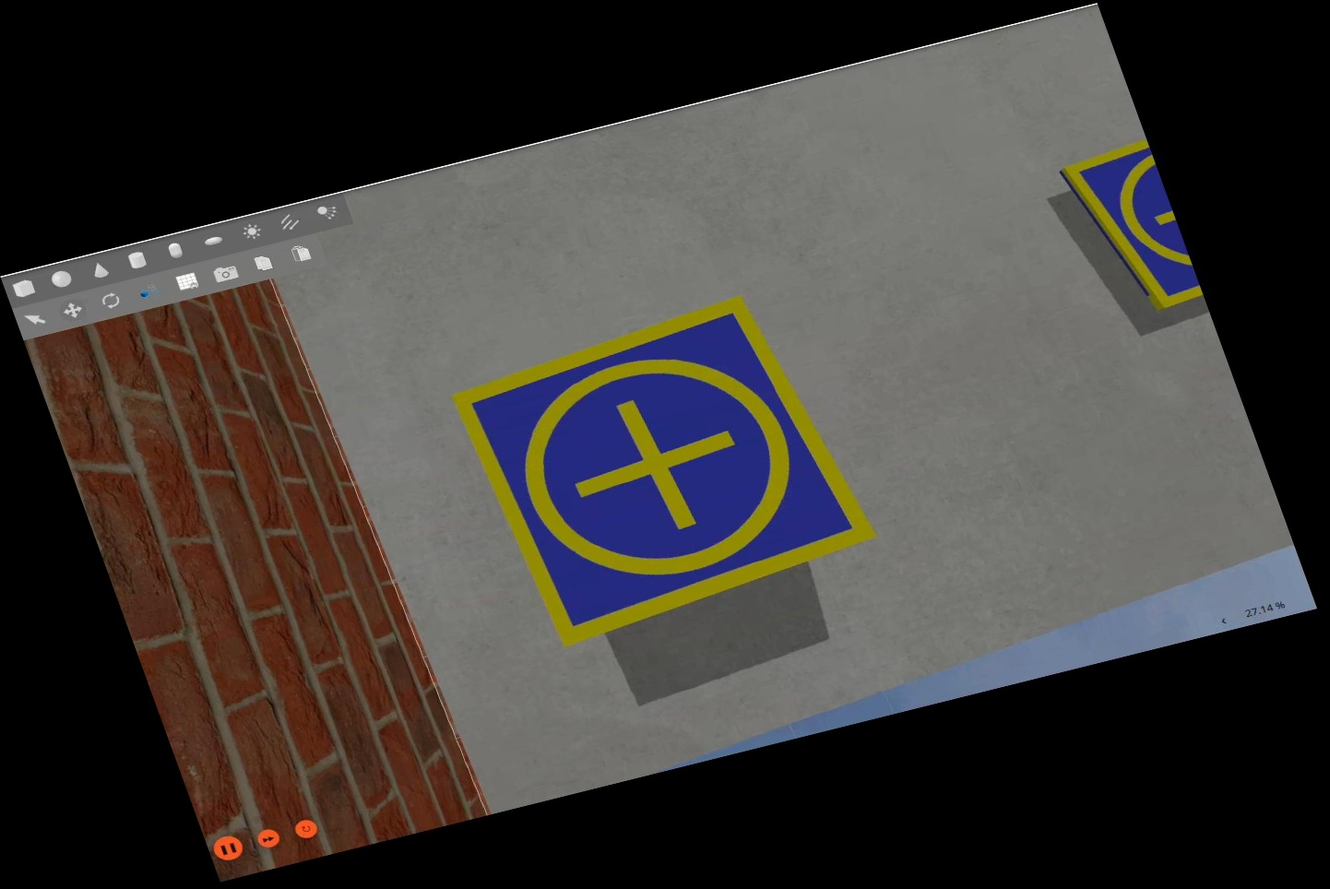small_base: (445, 286, 893, 655), (1055, 137, 1209, 324)
